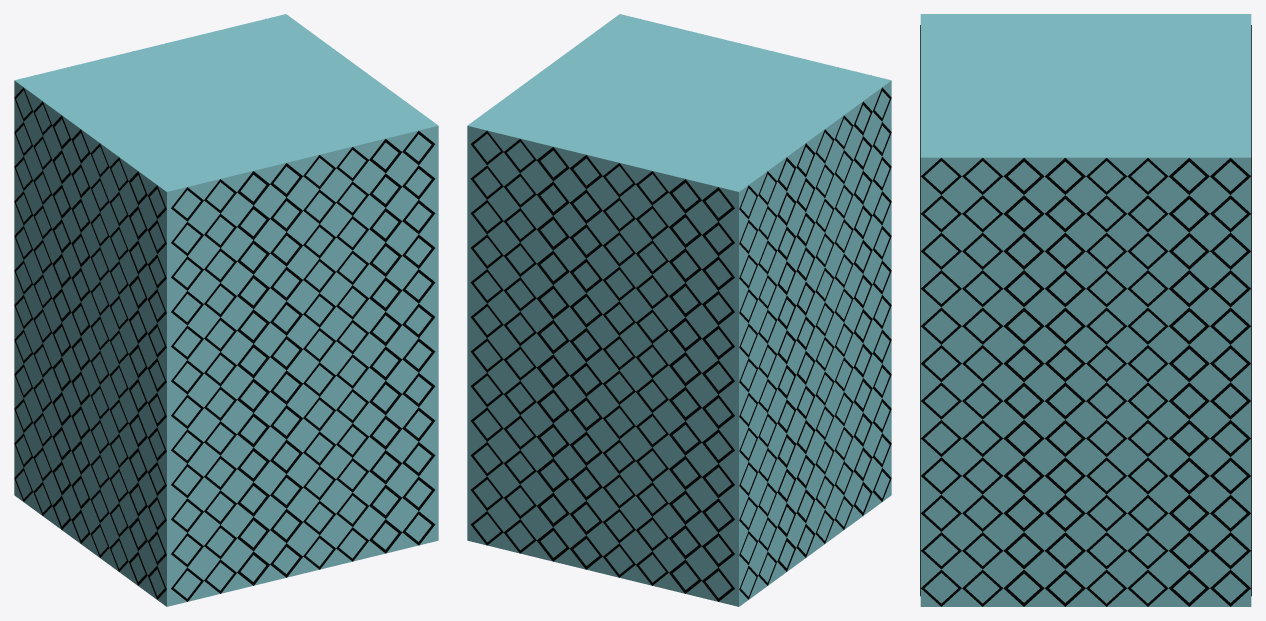
The model's file is pradabuilding.fbx.
The picture shows the model from 3 angles, left to right: view 1: azimuth 30°, elevation 25°; view 2: azimuth 150°, elevation 25°; view 3: azimuth 270°, elevation 25°; orthographic projection. The views are drawn at different scales.
Visible parts, largest first — view 1: Cube; view 2: Cube; view 3: Cube.
Part boxes in pixels (left/top/right/bottom): Cube: left=14, top=14, right=438, bottom=606; Cube: left=467, top=14, right=891, bottom=606; Cube: left=920, top=14, right=1251, bottom=606.
Bounding box in the file's own units: 1646 × 2400 × 1606.
